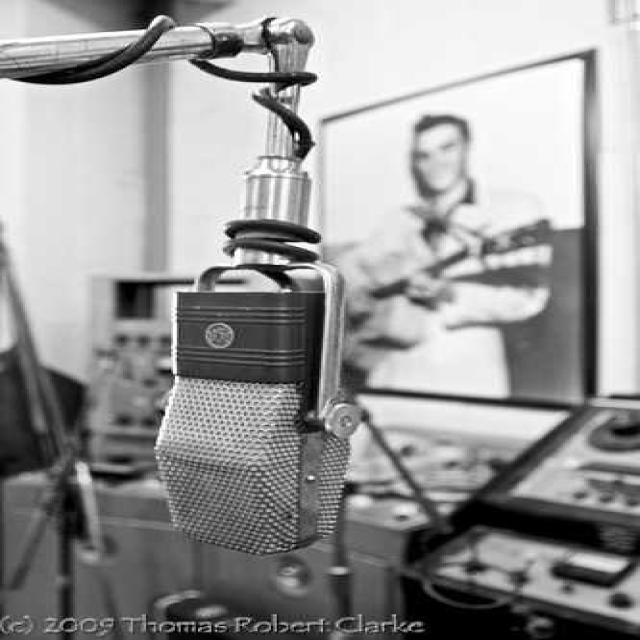microphone: (151, 230, 358, 570)
